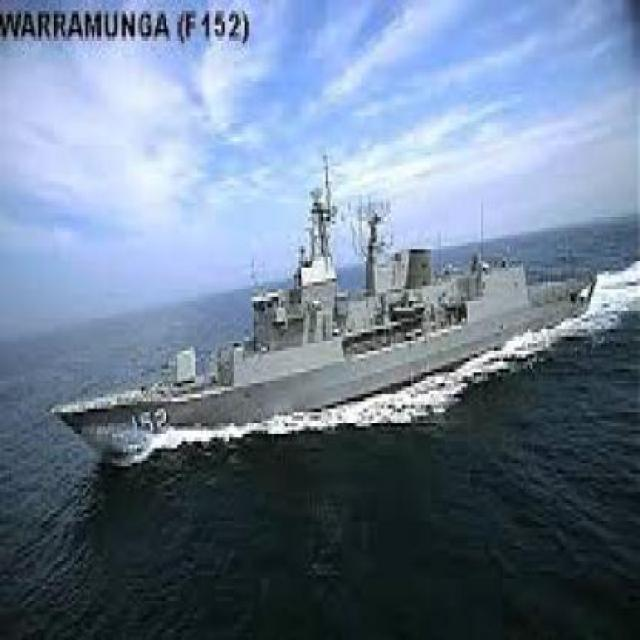warship2: (51, 97, 594, 510)
